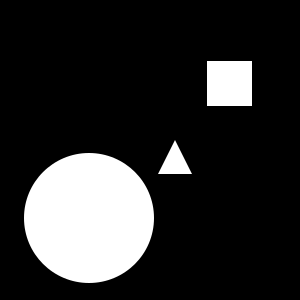circle: (207, 61, 252, 106)
rectangle: (24, 153, 154, 283), (38, 236, 58, 255)
triangle: (158, 140, 192, 174)
